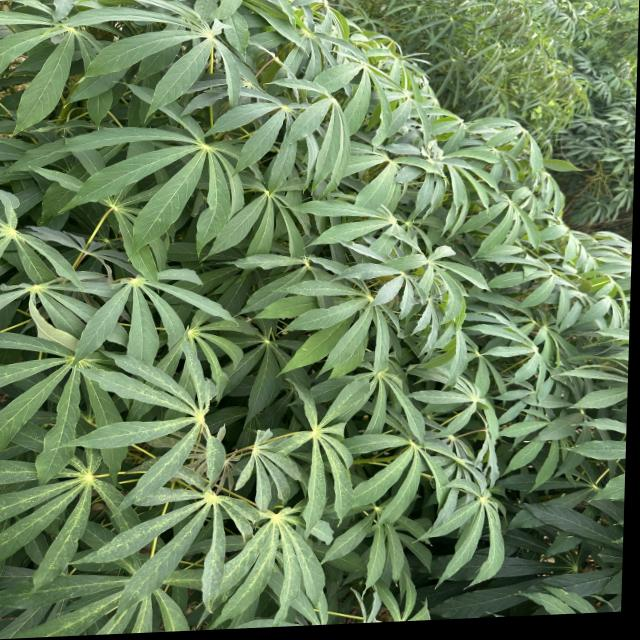Mosca: (369, 498, 396, 524), (98, 227, 115, 249), (556, 380, 572, 403)
